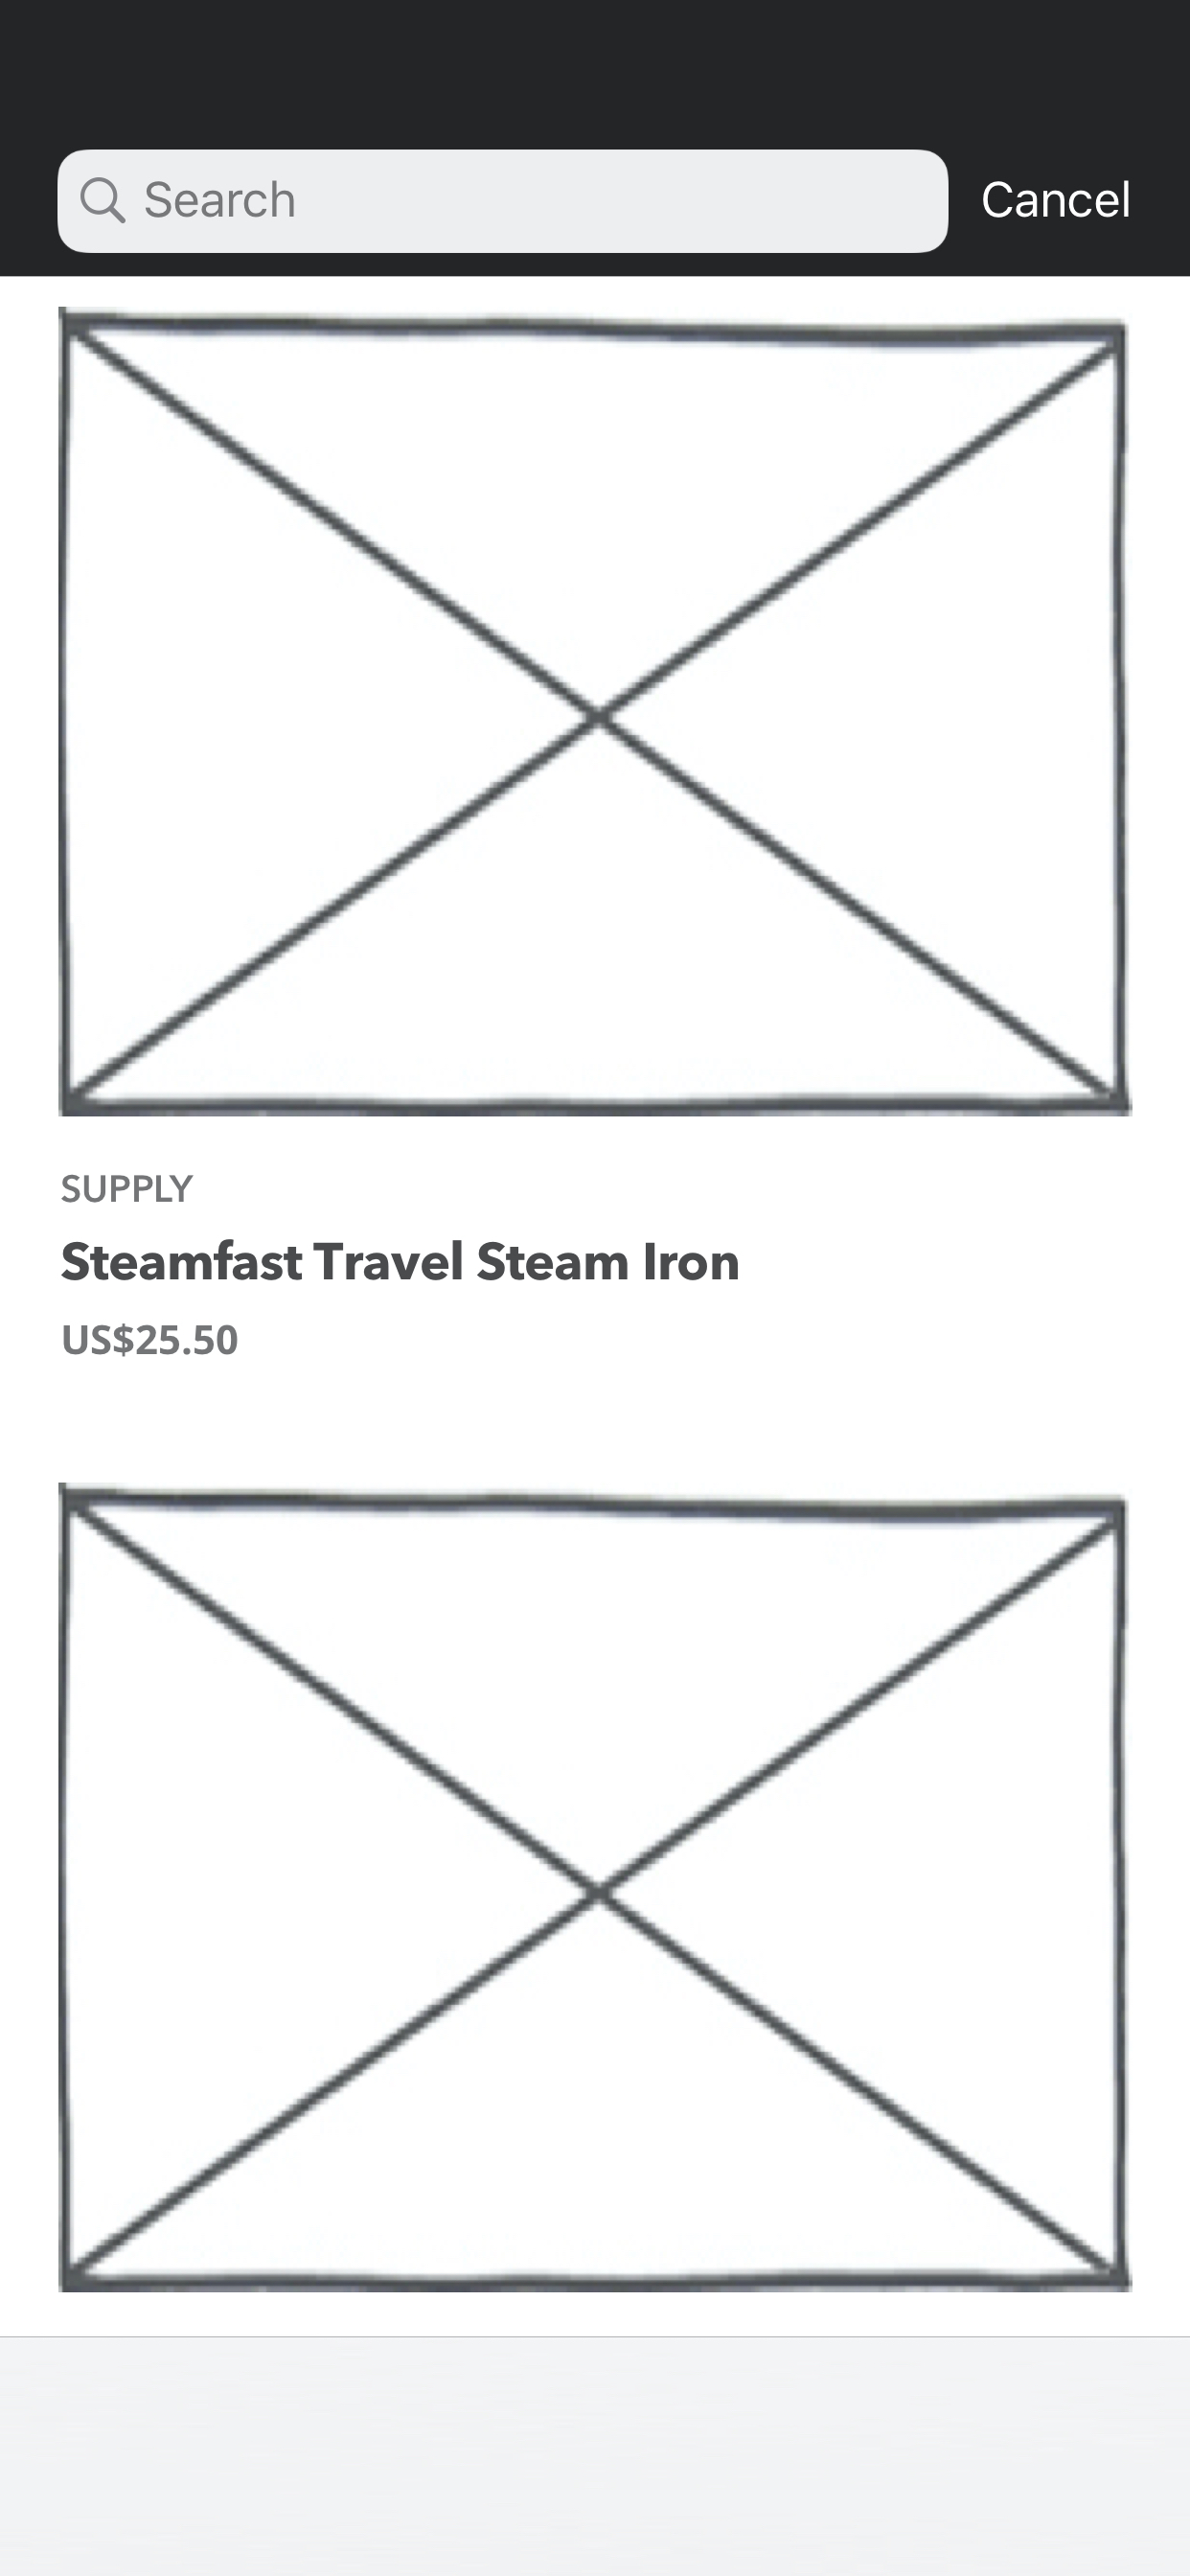EditText: (58, 148, 950, 255)
Icon: (81, 177, 128, 227)
Image: (54, 304, 1134, 1120), (54, 1480, 1131, 2297)
Text: (61, 1239, 740, 1281), (62, 1322, 240, 1359), (983, 179, 1129, 220), (146, 181, 296, 220), (61, 1175, 197, 1204)
